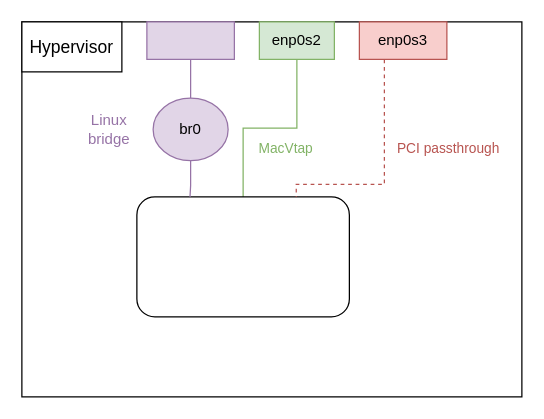
This 544x419 diagram has some shape labels left out. Each missing label, with the centre of its shape:
enp0s1: the point at 190,40
SSC600: the point at 242,256
